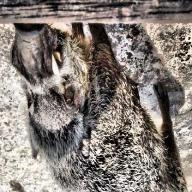boar: (25, 1, 183, 190)
